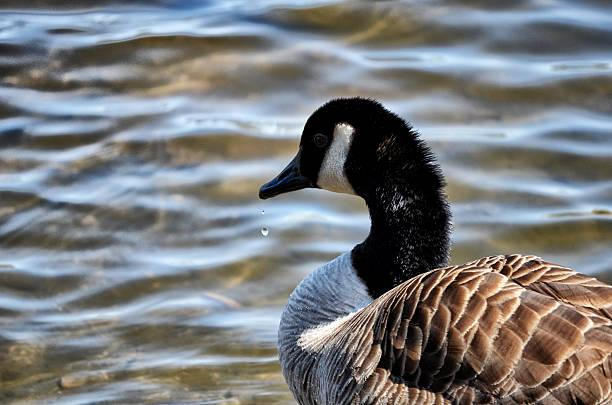Canadian-Goose: (262, 95, 612, 405)
